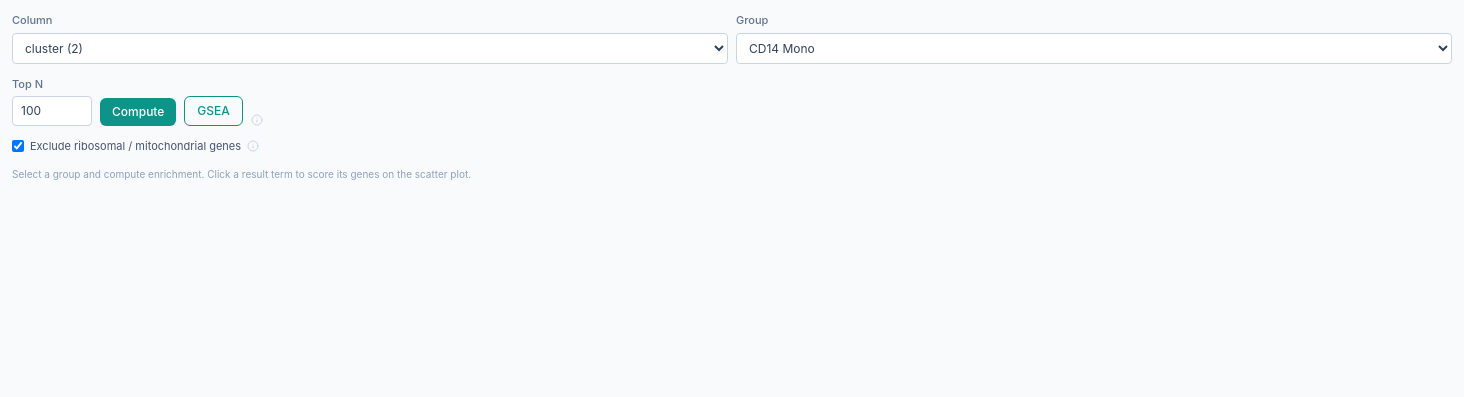
Test: UnifiedEnrichmentSubtab GSEA › runs GSEA on the selected marker group and shows both directions
Click the button "GSEA" at (214, 111), box [184,96,243,126]
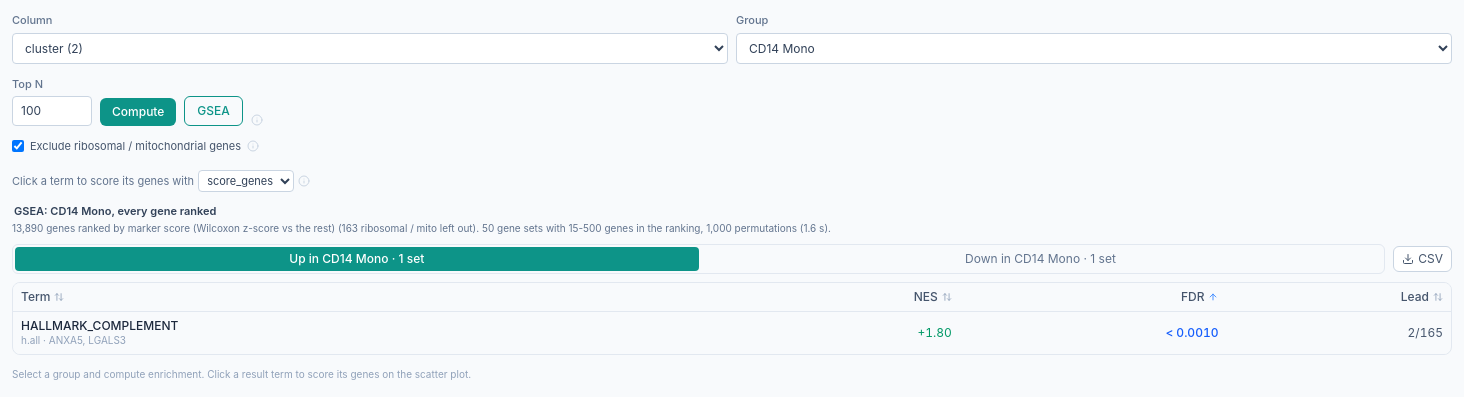
Expected: the text "HALLMARK_COMPLEMENT" is shown, [21,318,178,333]
Expected: the text "ranked by marker score" is shown, [12,222,831,234]
Click the button "Down in CD14 Mono · 1 set" at (1040, 259), box [699,247,1382,271]
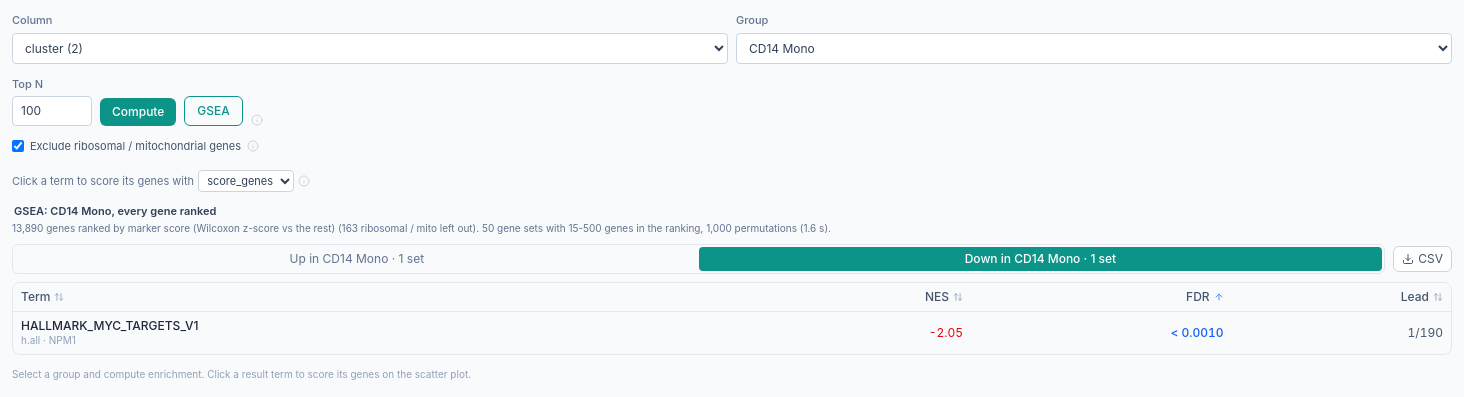
Expected: the text "HALLMARK_MYC_TARGETS_V1" is shown, [21,318,198,333]
